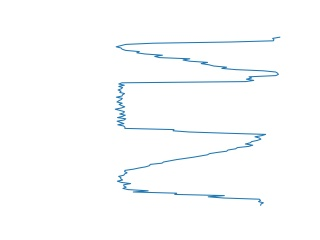distributaryChannelFill: (110, 70, 269, 143)
mouthBar: (114, 32, 281, 76)
underwaterDistributaryChannel: (115, 138, 267, 208)
